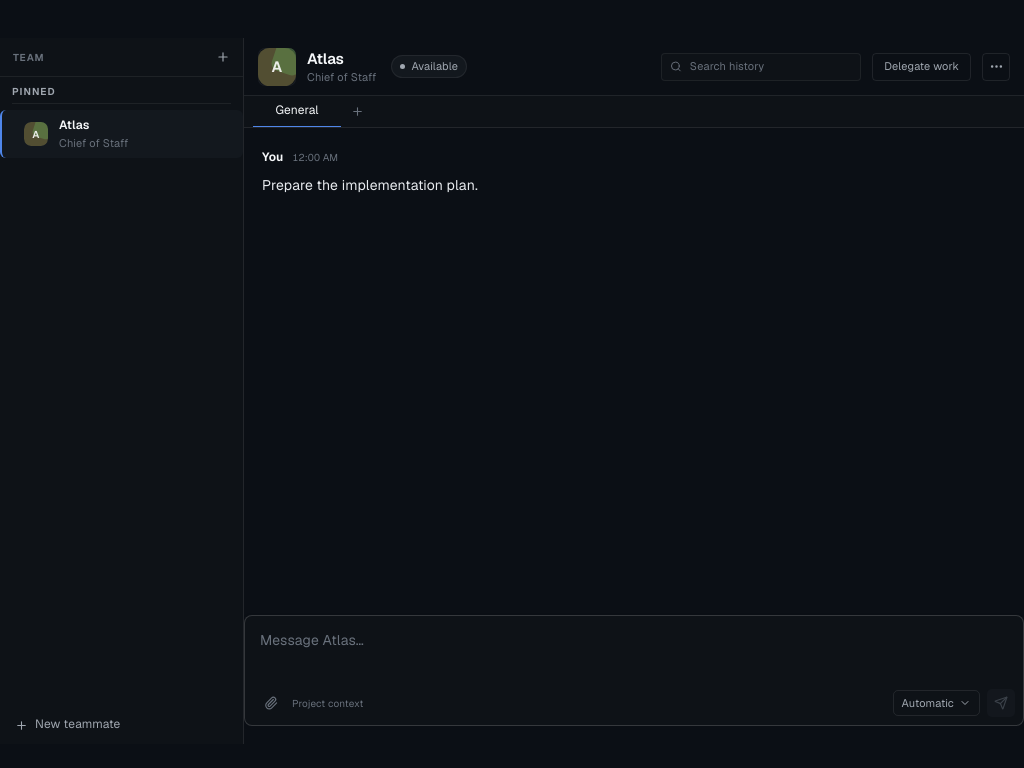
it: AgentModeSurface › keeps Access, Skills and Routines out of the team rail and behind the teammate header
The image size is (1024, 768).
Expected: the field labelled "Team roster" does not show "Skills"
Expected: the field labelled "Team roster" does not show "Routines"
Click the button named "Atlas settings": (996, 66) [982,52,1010,80]
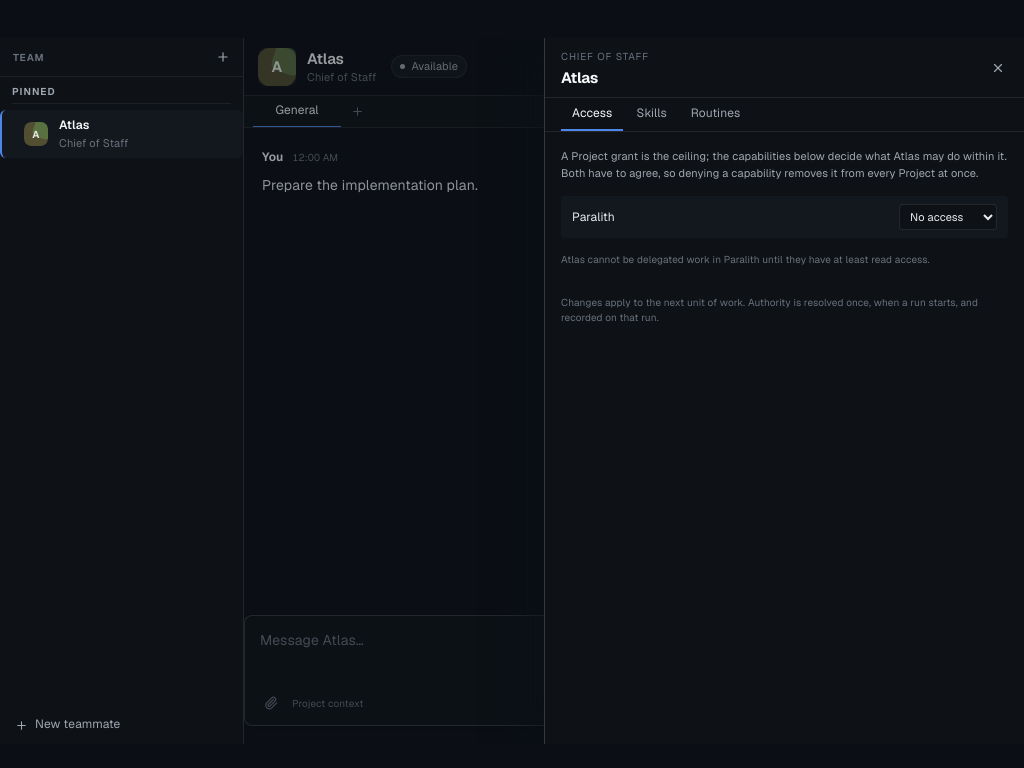
Expected: the button "Access" is shown, [561,98,623,131]
Expected: the button "Skills" is shown, [625,98,678,131]
Expected: the button "Routines" is shown, [680,98,751,131]
